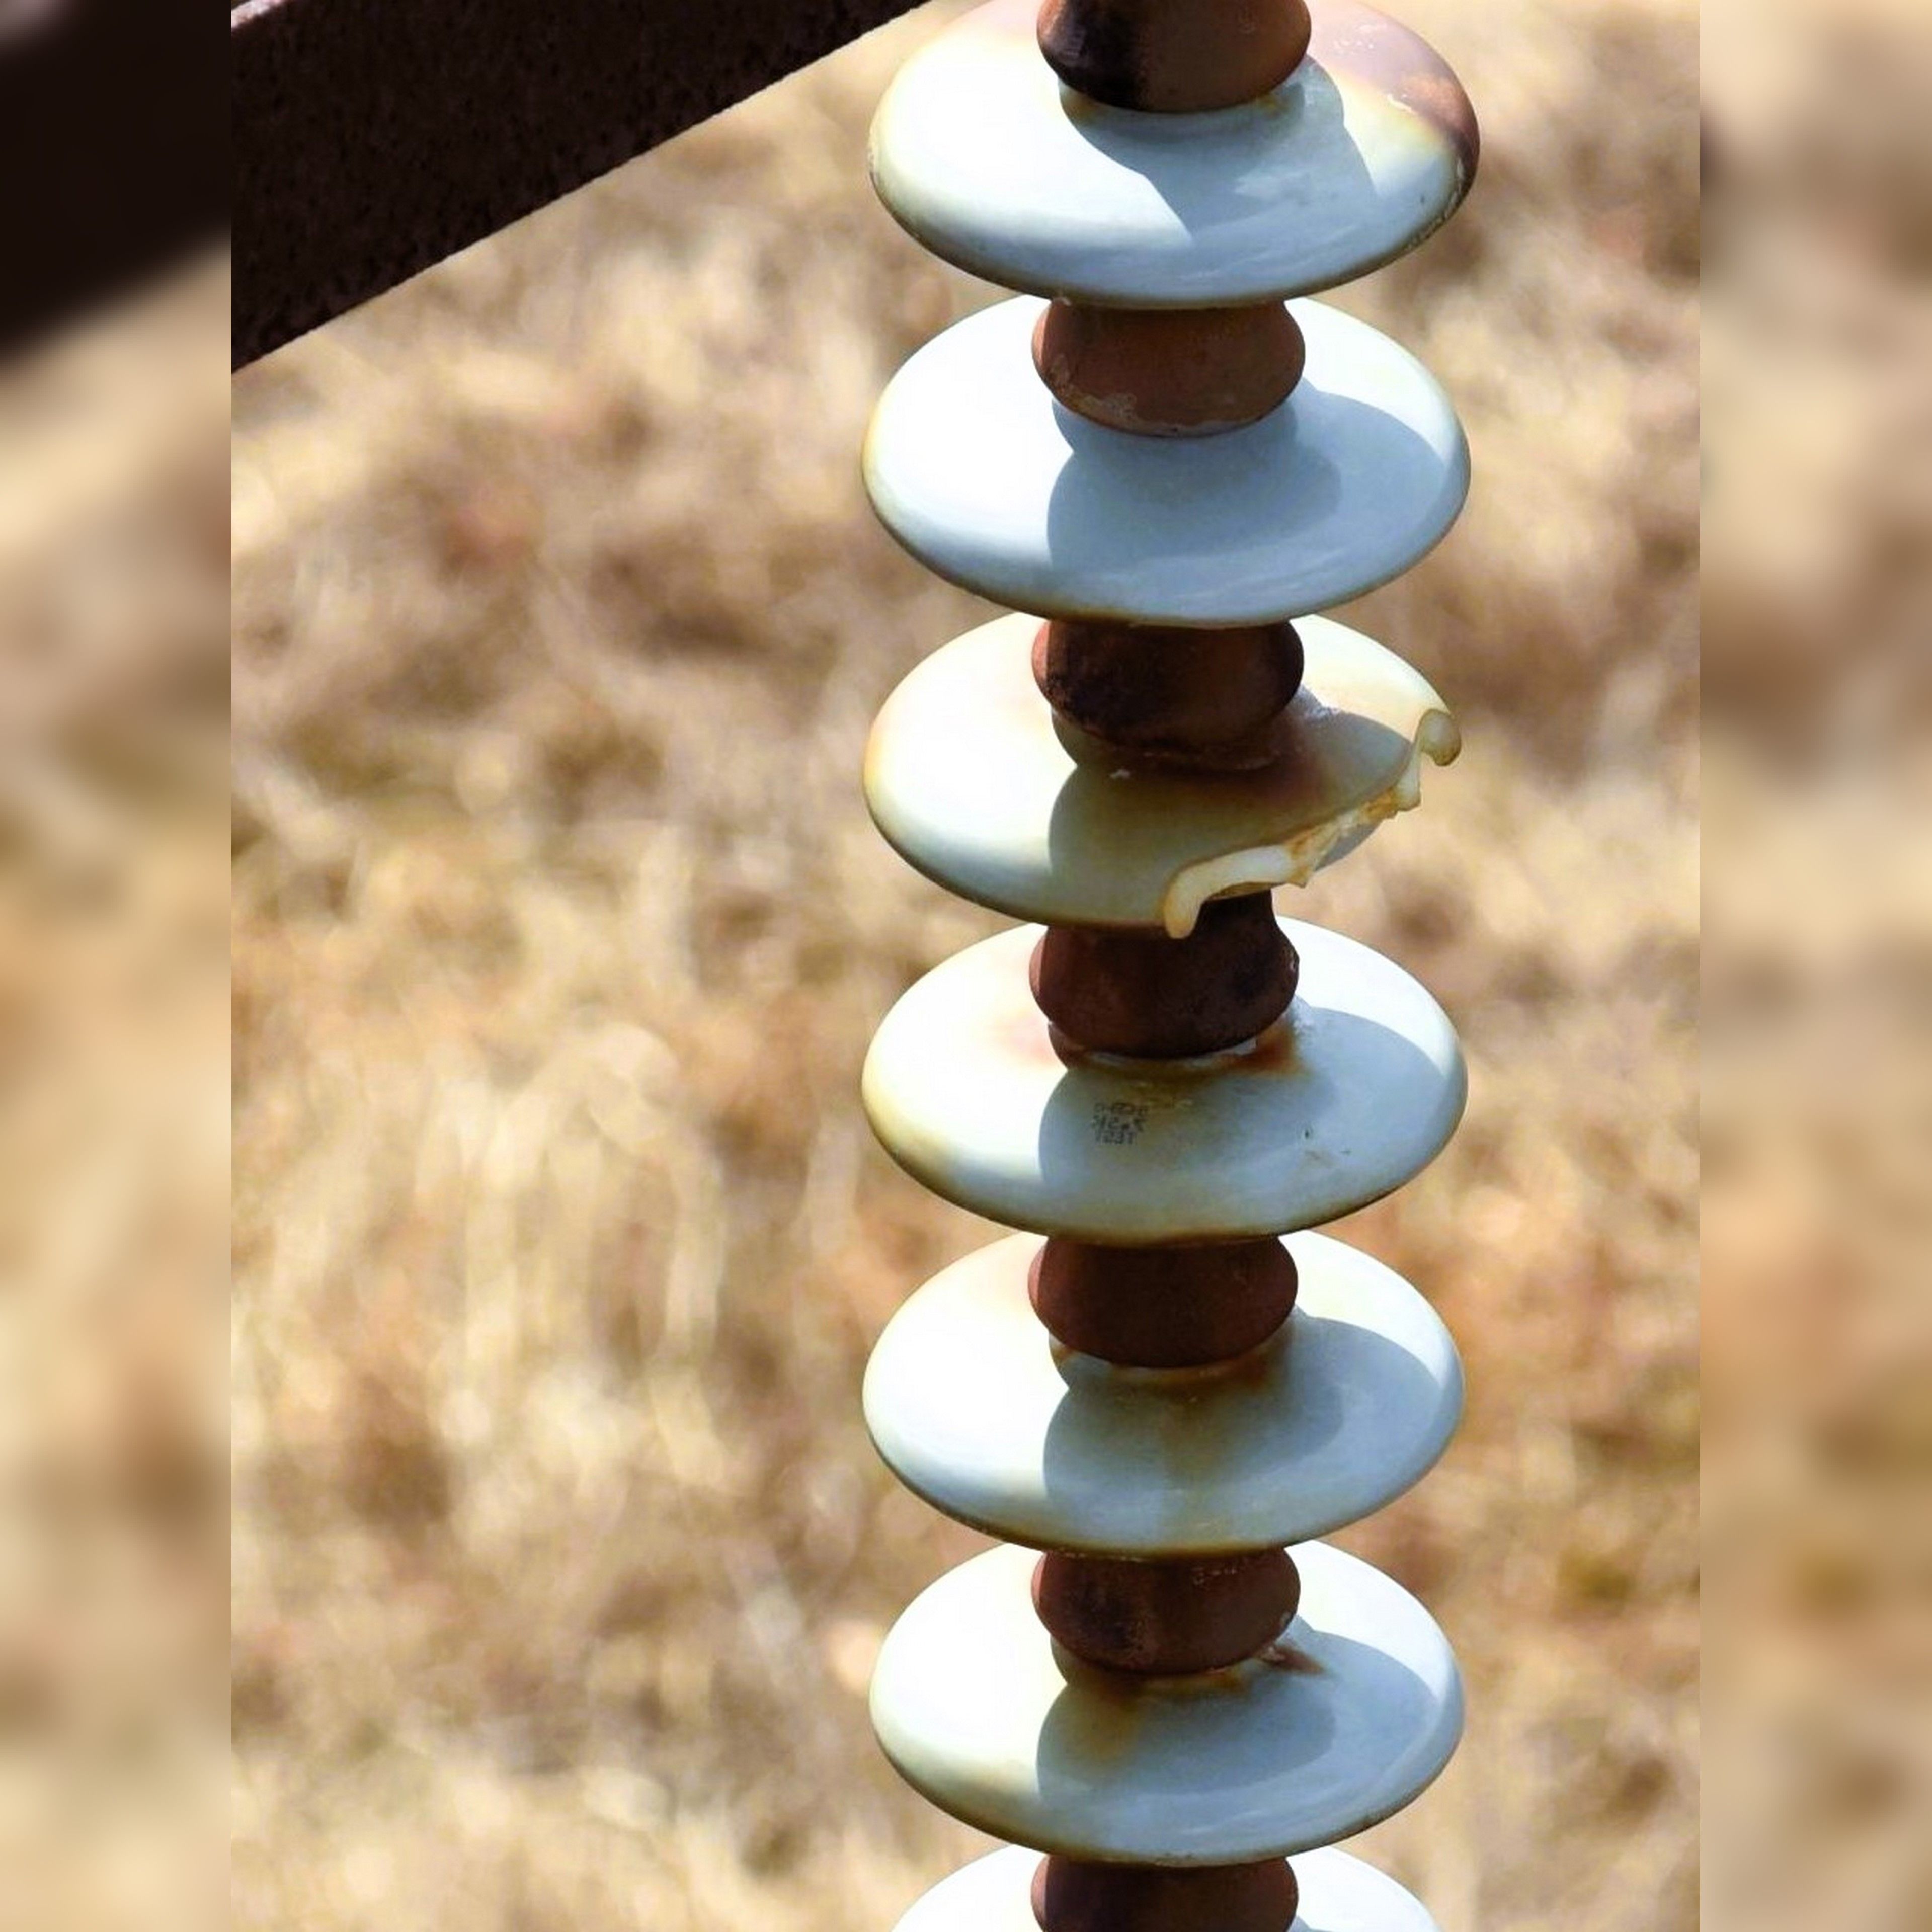insulator breakage: (809, 600, 1506, 952)
